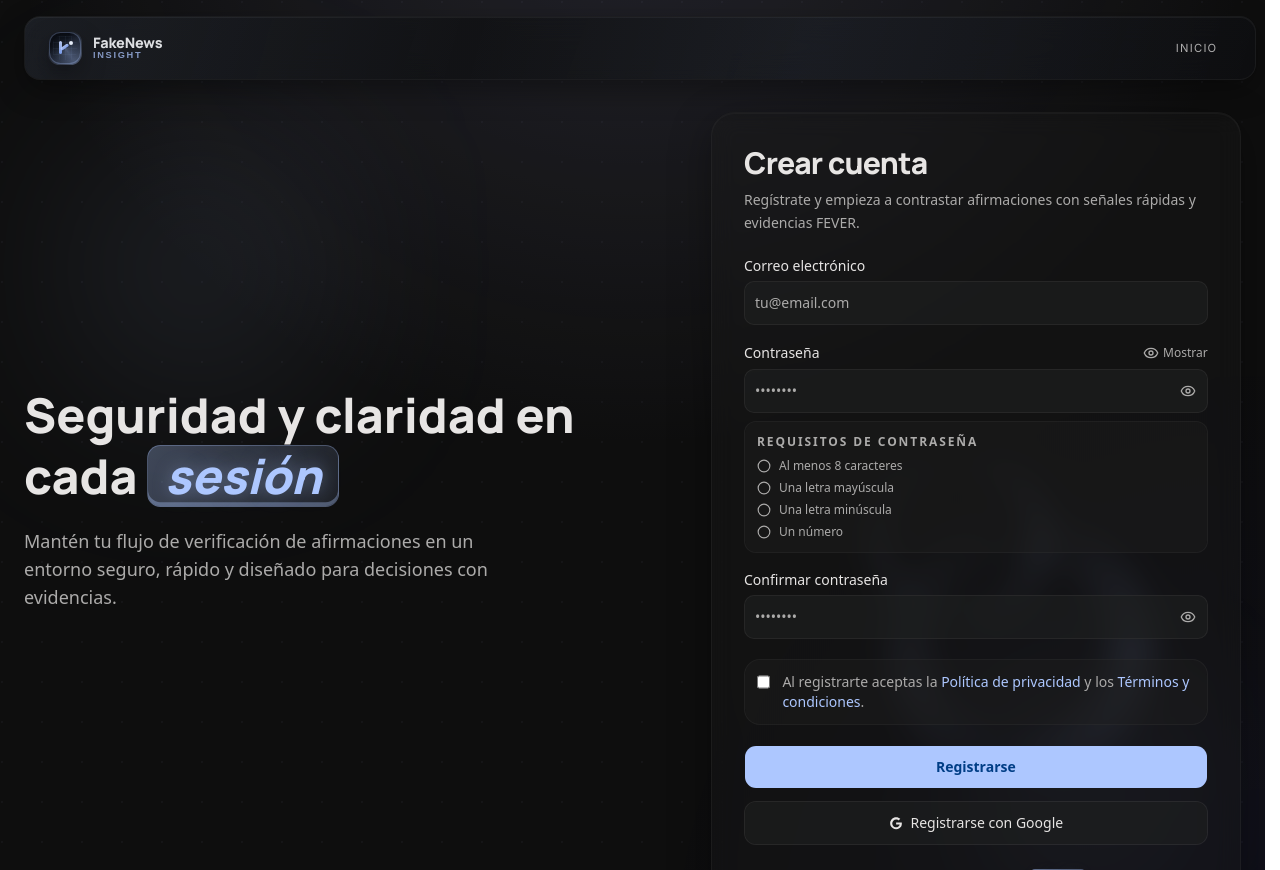
it: <Register /> › exige aceptar los legales antes del registro con Google
Click the button "Registrarse con Google" at {"x": 976, "y": 822}, box 744,800 -> 1208,844
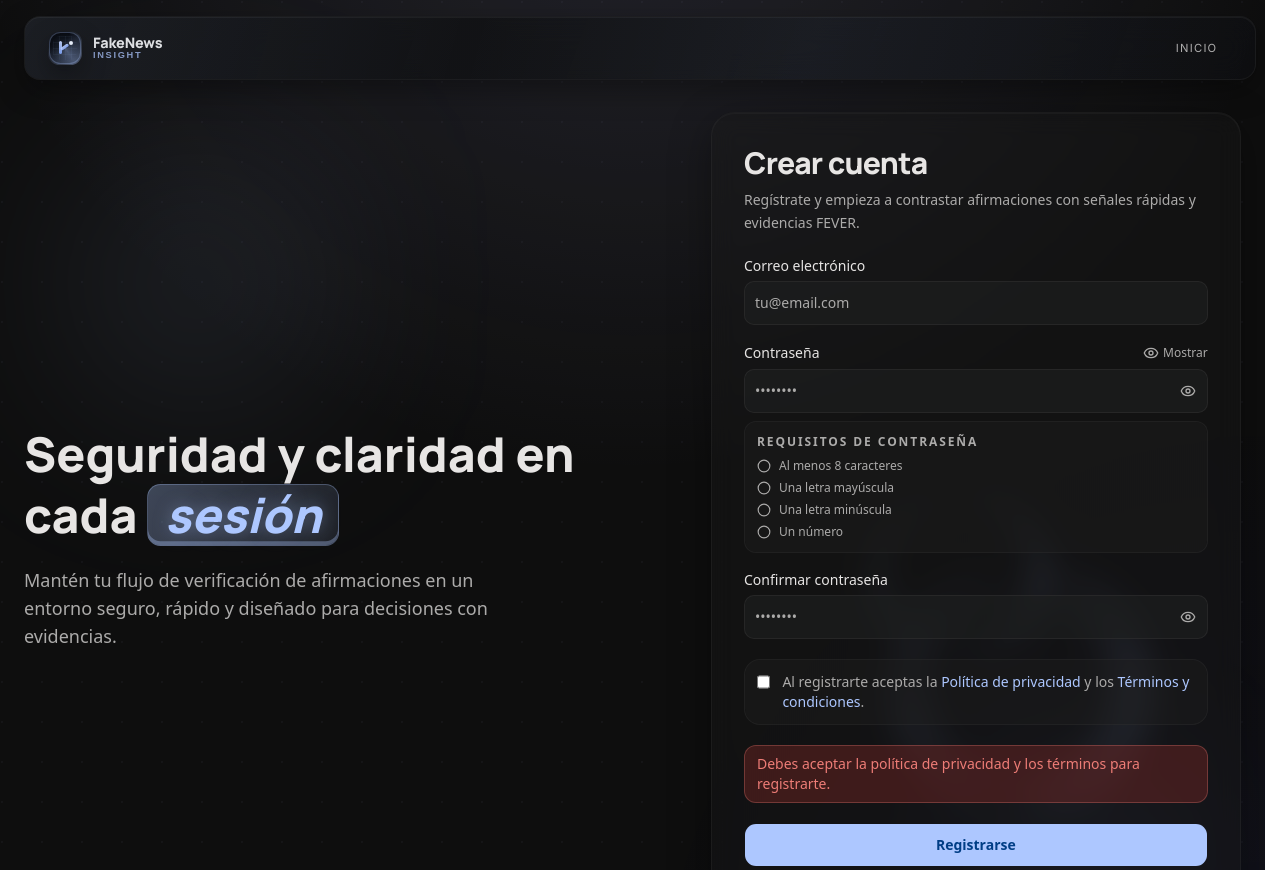
Result: the message shows "Debes aceptar" at 757,754 -> 1140,792
